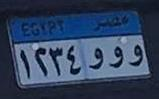1: (20, 49, 31, 82)
2: (33, 46, 49, 79)
3: (48, 44, 65, 79)
4: (65, 44, 82, 78)
waw: (126, 40, 144, 69), (107, 45, 124, 70), (88, 46, 104, 72)
